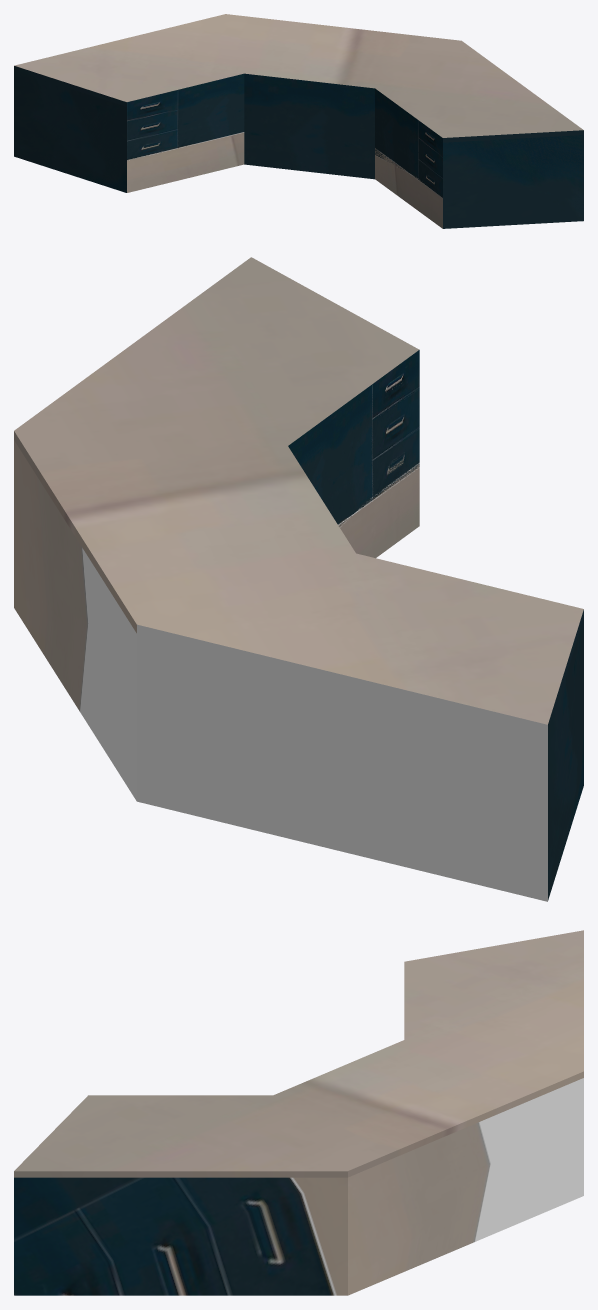
File: desk.fbx
3 renders of one model, top to bottom at view 1: azimuth 30°, elevation 25°; view 2: azimuth 150°, elevation 25°; view 3: azimuth 270°, elevation 25°, orthographic. The views are drawn at different scales.
Visible parts, largest first — view 1: Circle.023; view 2: Circle.023; view 3: Circle.023.
Boxes of the visible parts, left/top/right/bottom form: Circle.023: left=14, top=14, right=583, bottom=228; Circle.023: left=14, top=257, right=583, bottom=901; Circle.023: left=14, top=930, right=583, bottom=1295.
Bounding box in the file's own units: 45.73 × 11.03 × 45.73.
